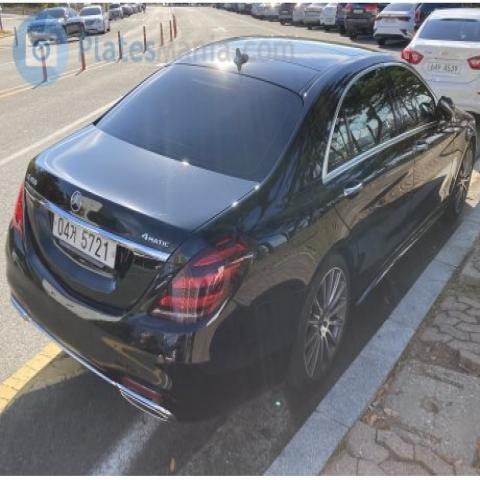LP: (41, 202, 134, 280)
